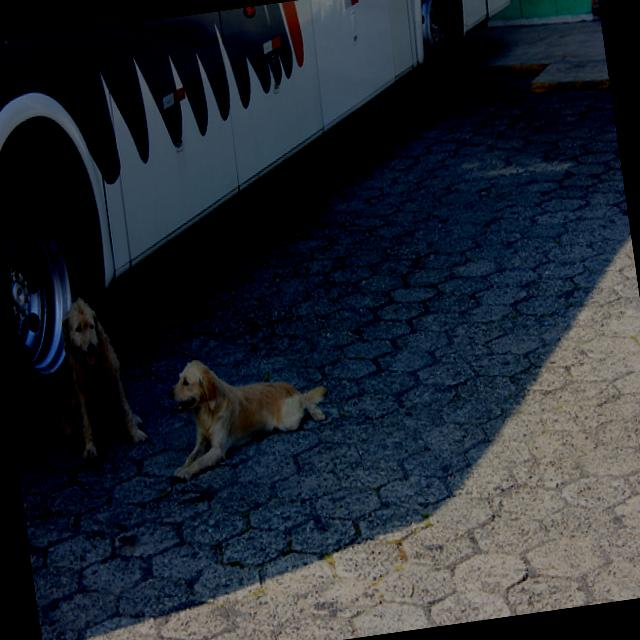Vehicle: (0, 0, 567, 438)
